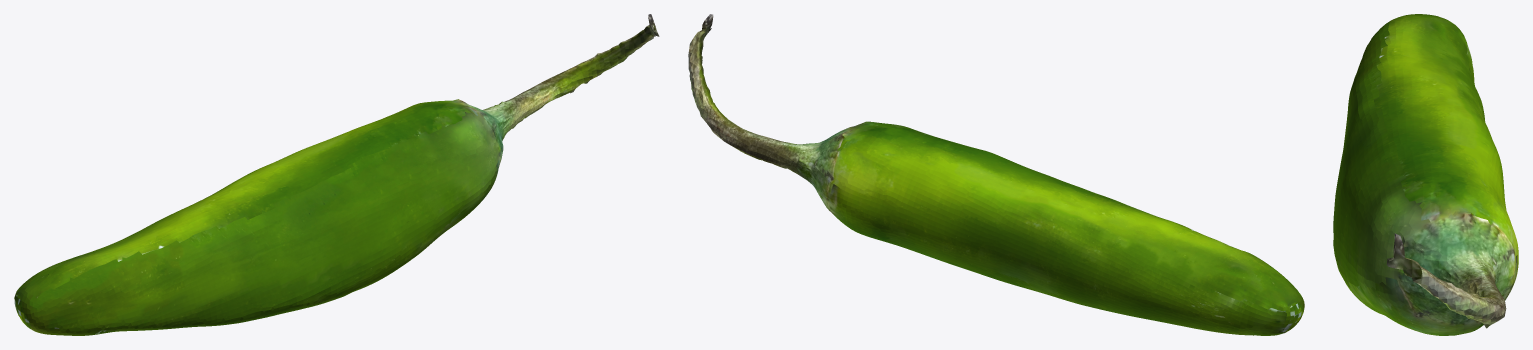
Rendered from chileserrano.glb.
The picture shows the model from 3 angles, left to right: view 1: azimuth 30°, elevation 25°; view 2: azimuth 150°, elevation 25°; view 3: azimuth 270°, elevation 25°; orthographic projection. The views are drawn at different scales.
Visible parts, largest first — view 1: group_0; view 2: group_0; view 3: group_0.
Part boxes in pixels (x1,y1,x2,y2): group_0: [14, 14, 659, 335]; group_0: [688, 14, 1304, 335]; group_0: [1333, 14, 1518, 335].
Bounding box in the file's own units: 0.1008 × 0.0306 × 0.0193.
Materials: 1 (1 with a texture image).
